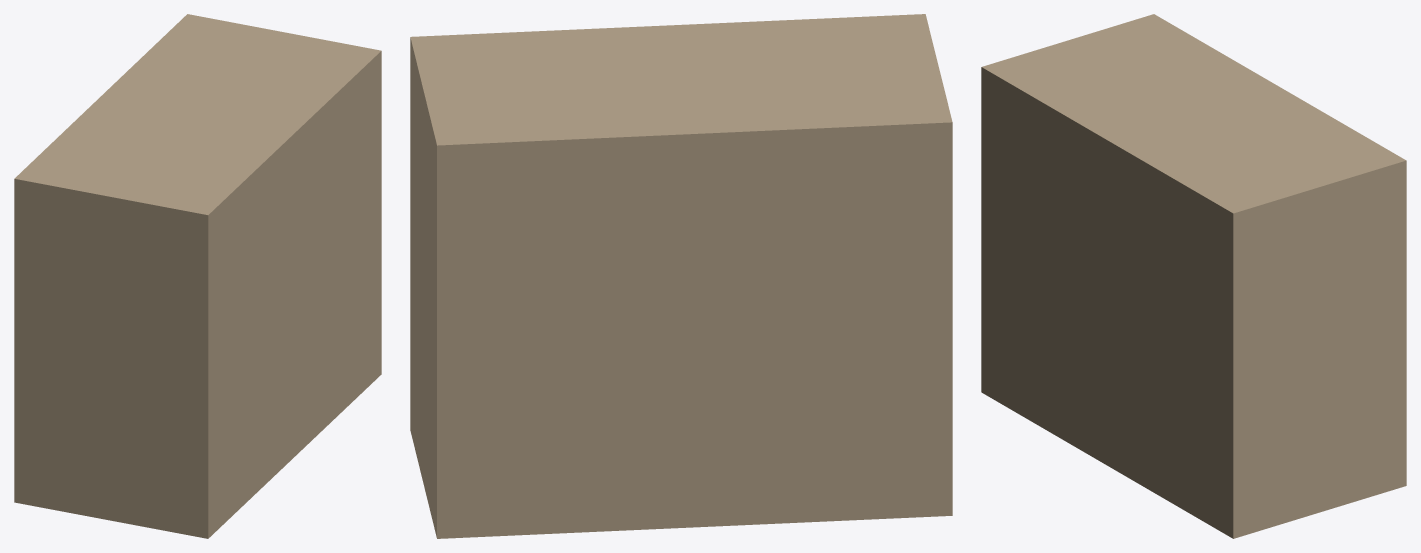
Rendered from bld_164606007.dae.
3 views of the same model, side by side, from view 1: azimuth 30°, elevation 25°; view 2: azimuth 150°, elevation 25°; view 3: azimuth 270°, elevation 25° (orthographic). The views are drawn at different scales.
Parts seen in each view (by area): view 1: bld_164606007; view 2: bld_164606007; view 3: bld_164606007.
Part boxes in pixels (x1,y1,x2,y2): bld_164606007: (14,14,381,538); bld_164606007: (410,14,952,538); bld_164606007: (981,14,1406,538).
Bounding box in the file's own units: 10.52 × 9.47 × 8.
